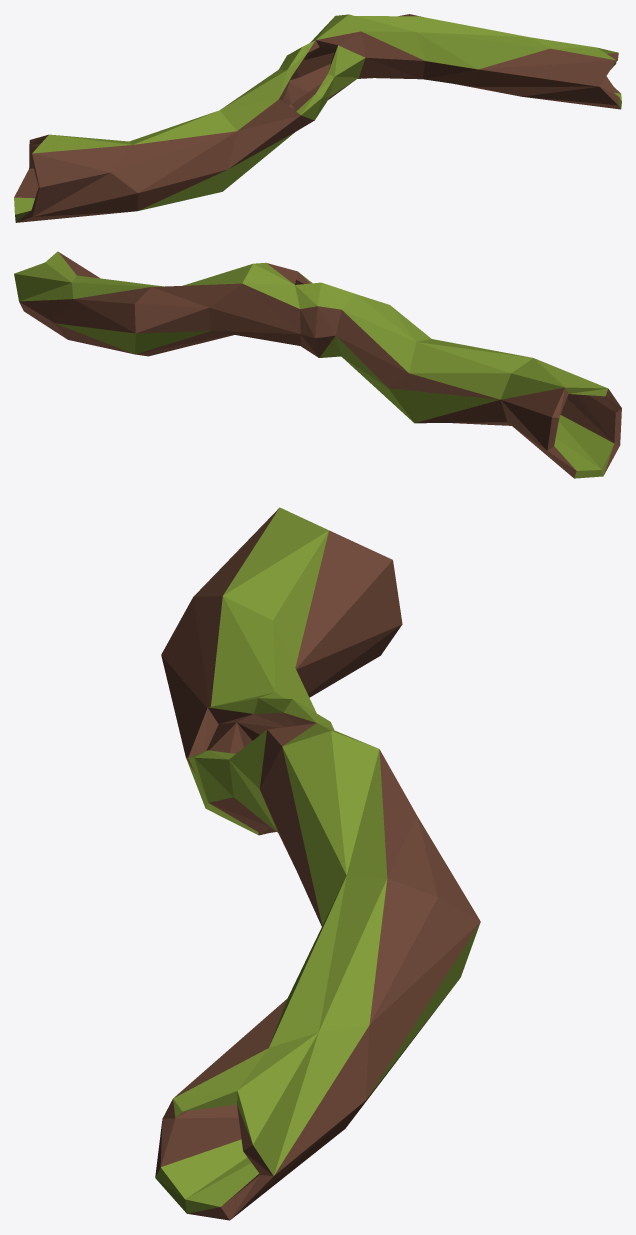
The model's file is Wooden Log_3_Moss.fbx.
3 renders of one model, top to bottom at view 1: azimuth 30°, elevation 25°; view 2: azimuth 150°, elevation 25°; view 3: azimuth 270°, elevation 25°, orthographic. The views are drawn at different scales.
Visible parts, largest first — view 1: Wooden Log_3_Moss; view 2: Wooden Log_3_Moss; view 3: Wooden Log_3_Moss.
Part boxes in pixels (x1,y1,x2,y2): Wooden Log_3_Moss: (14, 14, 621, 222); Wooden Log_3_Moss: (14, 251, 621, 478); Wooden Log_3_Moss: (155, 507, 480, 1220).
Bounding box in the file's own units: 5.16 × 1.08 × 1.24.
